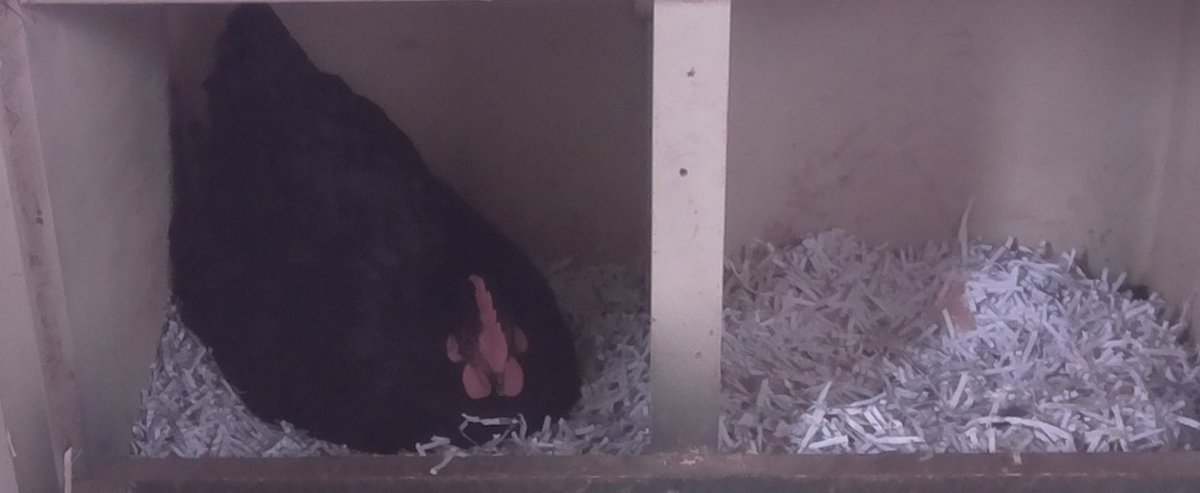hen: (164, 24, 585, 449)
